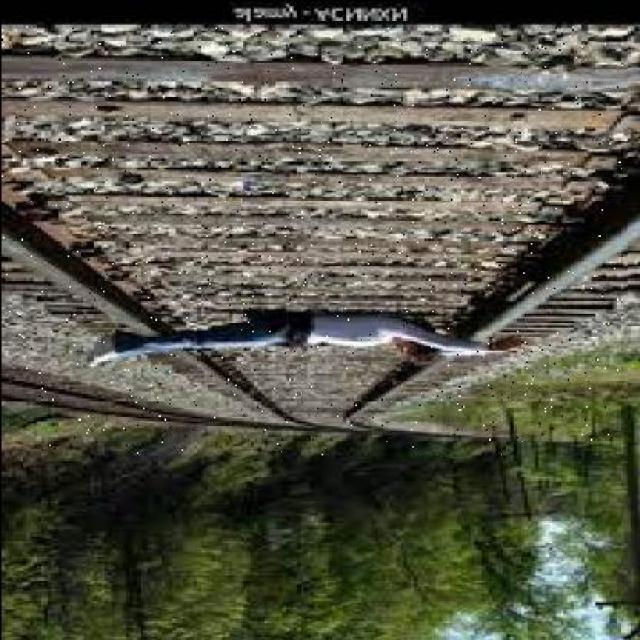danger: (72, 308, 522, 372)
rail: (0, 25, 626, 453)
